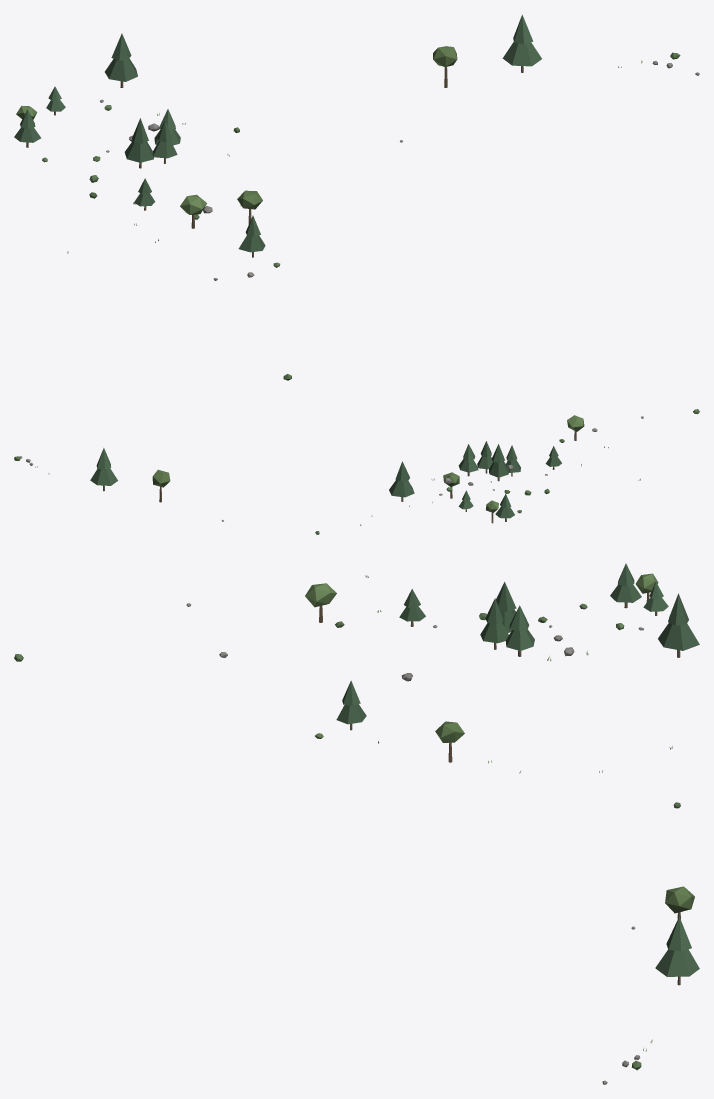
File: arch_land_scatter_c17_19_lod1.glb
3 views of the same model, one above another, from view 1: azimuth 30°, elevation 25°; view 2: azimuth 150°, elevation 25°; view 3: azimuth 270°, elevation 25° (orthographic). The views are drawn at different scales.
Parts seen in each view (by area): view 1: arch_land_scatter_c17_19_lod1; view 2: arch_land_scatter_c17_19_lod1; view 3: arch_land_scatter_c17_19_lod1.
Boxes of the visible parts, box(x1,y1,x2,y2) form: arch_land_scatter_c17_19_lod1: box(14, 14, 699, 380); arch_land_scatter_c17_19_lod1: box(14, 409, 699, 534); arch_land_scatter_c17_19_lod1: box(14, 563, 699, 1084).
Bounding box in the file's own units: 183 × 37.92 × 126.
